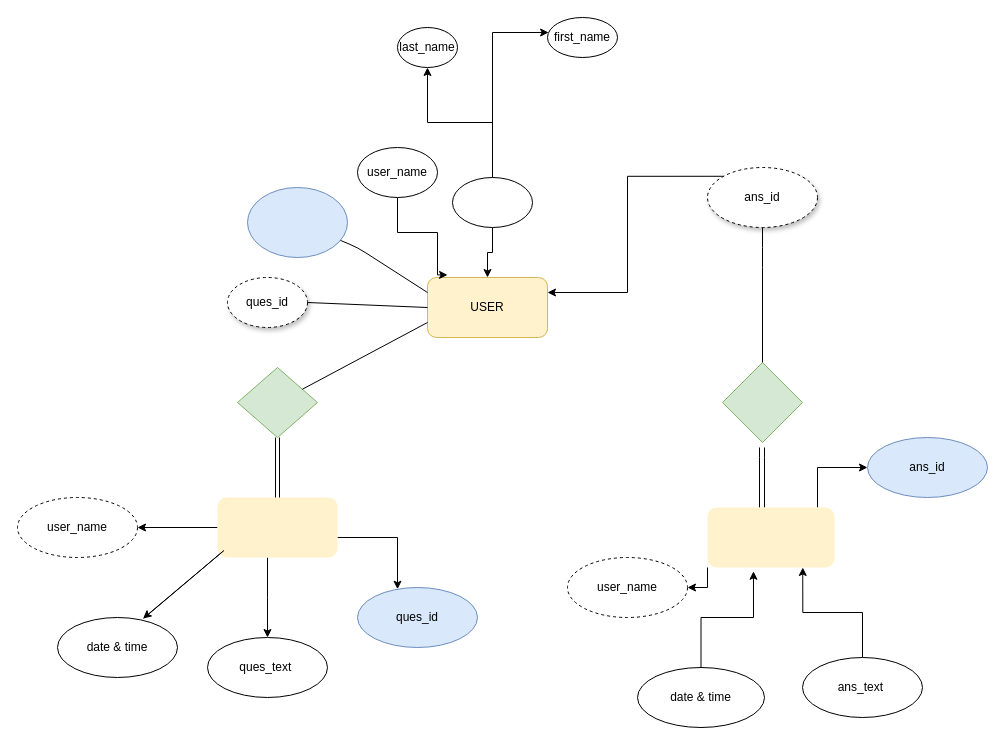
Some shapes in this 1005 by 745 pixel diagram are drawn without their labels. Here are the shapes that lost their labels. From the top down, the centre of each, then its label:
point 297,222: user_id
point 492,202: Name
point 277,402: asks
point 762,402: answers
point 277,527: Question
point 770,537: Answer
